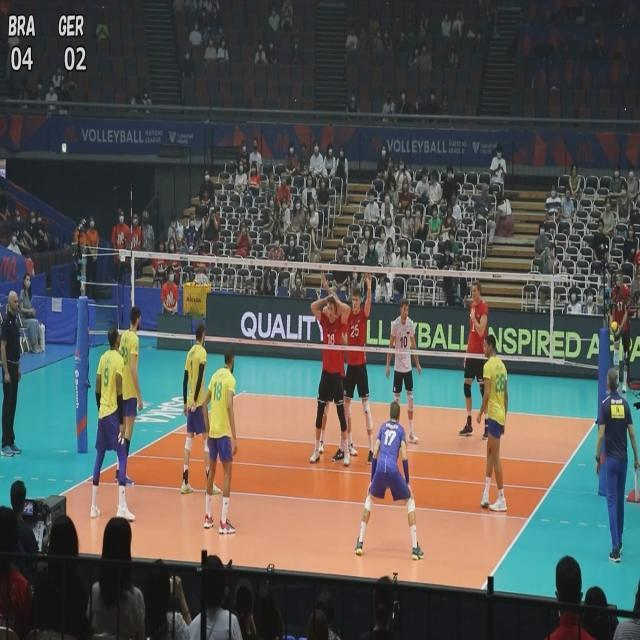volleyball: (610, 321, 620, 336)
